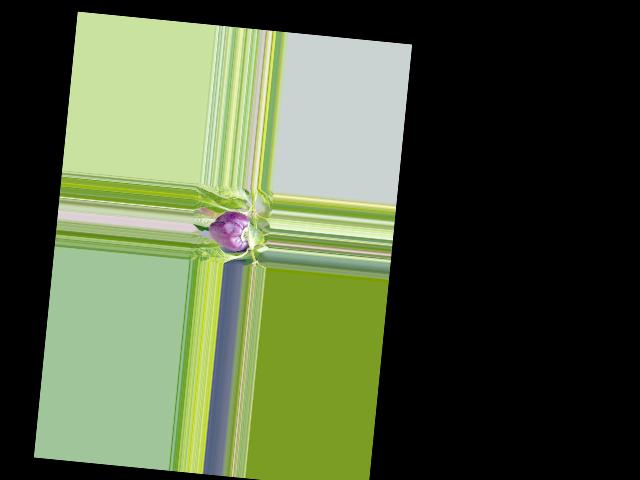bell_pepper: (205, 208, 255, 252)
